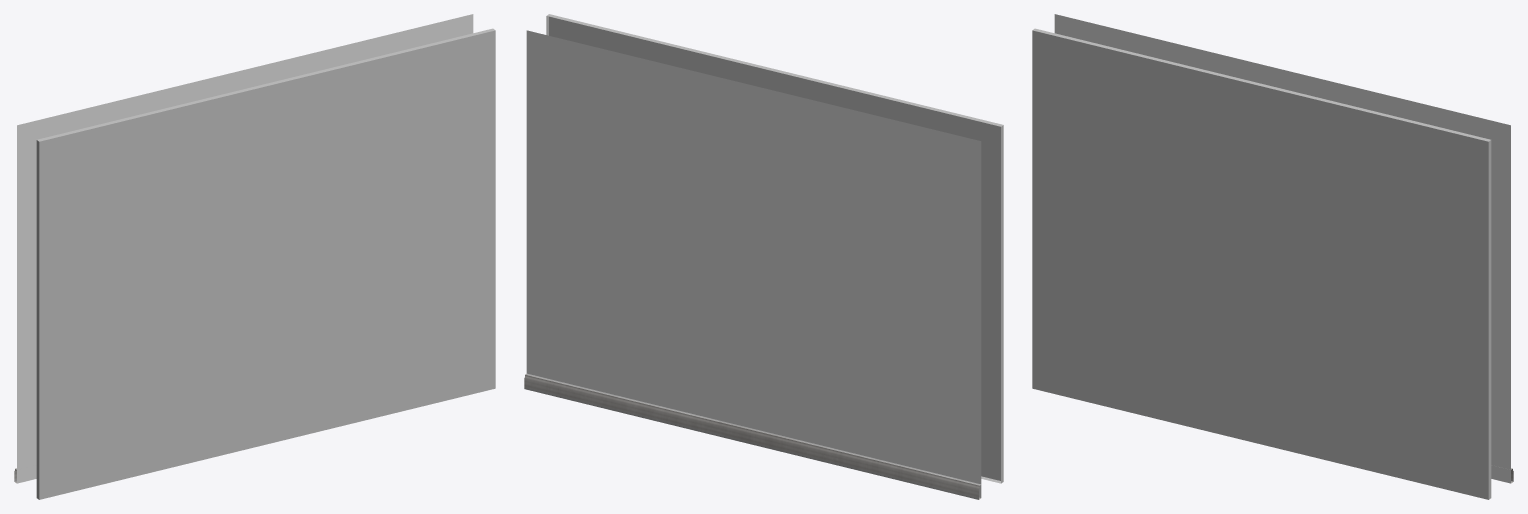
The model's file is House_01_Wall_01.fbx.
3 renders of one model, left to right at view 1: azimuth 30°, elevation 25°; view 2: azimuth 150°, elevation 25°; view 3: azimuth 330°, elevation 25°, orthographic.
Visible parts, largest first — view 1: House_01_Wall_01; view 2: House_01_Wall_01; view 3: House_01_Wall_01.
Part boxes in pixels (bbox=[...]): House_01_Wall_01: bbox=[14, 14, 495, 499]; House_01_Wall_01: bbox=[524, 14, 1003, 499]; House_01_Wall_01: bbox=[1032, 14, 1513, 499].
Bounding box in the file's own units: 400 × 300 × 37.93.
